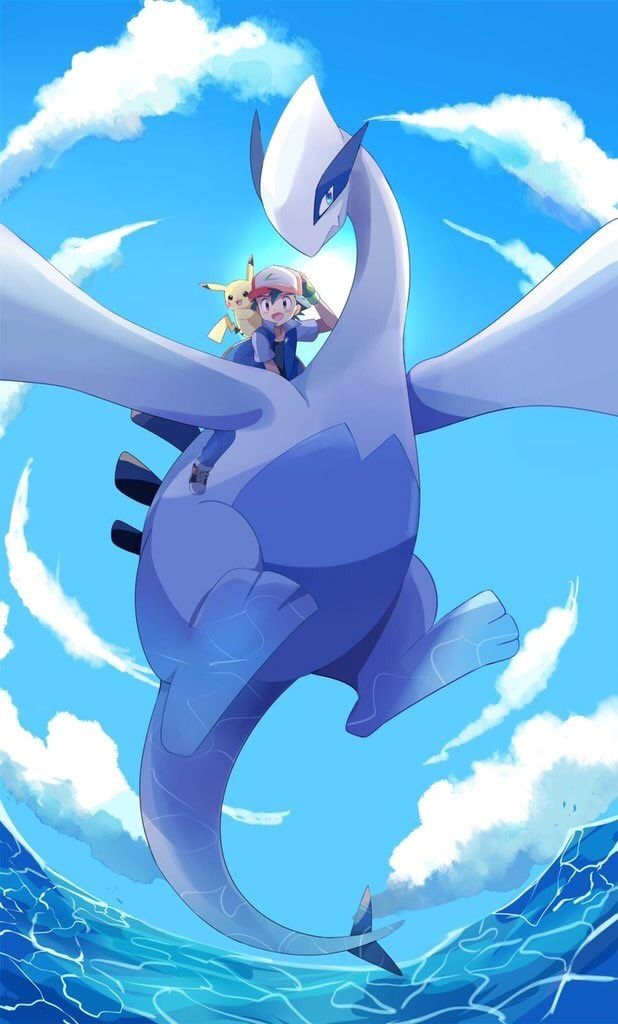lugia: (248, 75, 412, 286)
